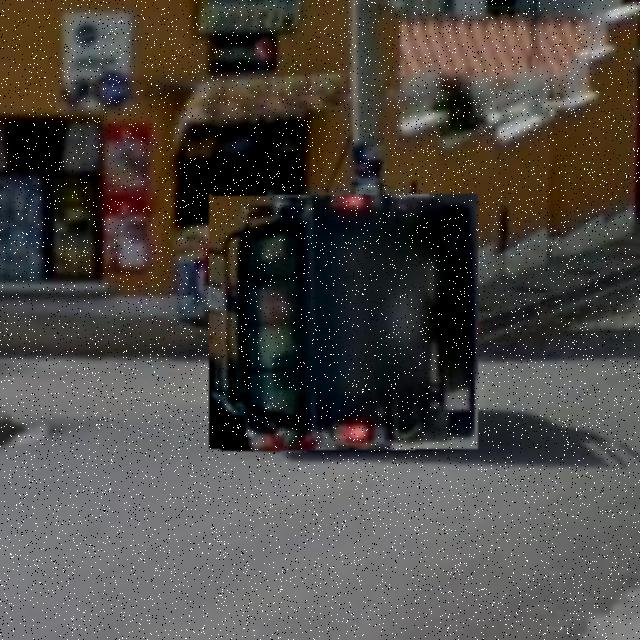car: (213, 192, 476, 454)
